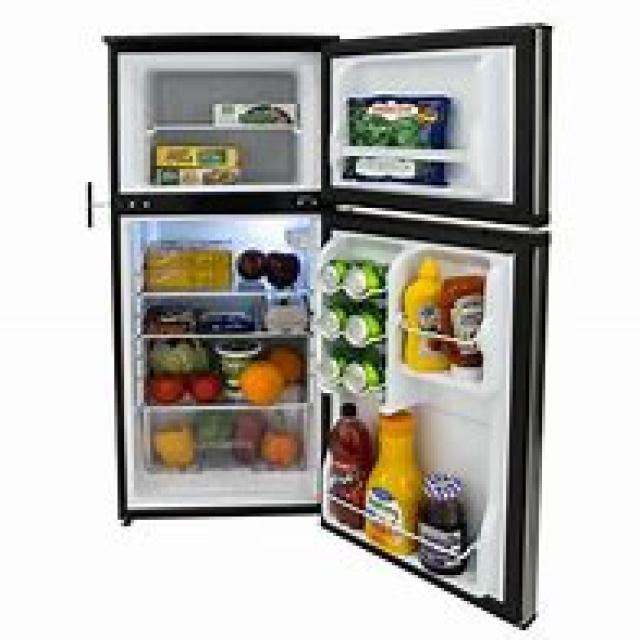fridge: (95, 23, 552, 630)
